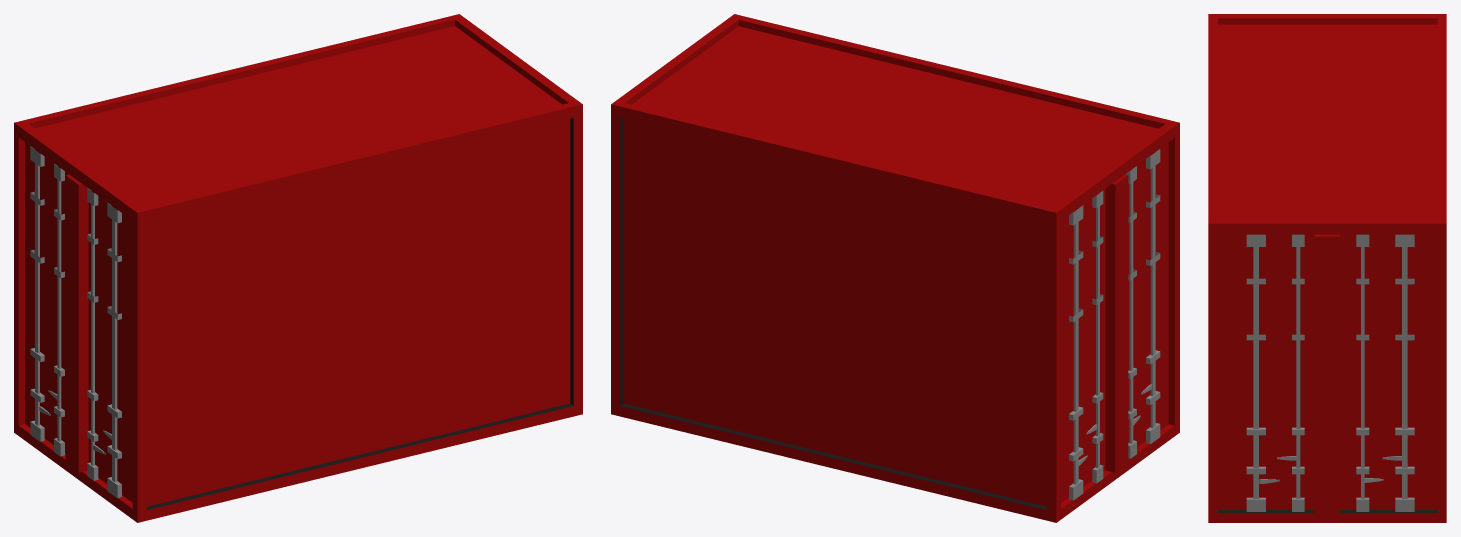
File: FreightContainer.fbx
The picture shows the model from 3 angles, left to right: view 1: azimuth 30°, elevation 25°; view 2: azimuth 150°, elevation 25°; view 3: azimuth 270°, elevation 25°; orthographic projection. The views are drawn at different scales.
Parts seen in each view (by area): view 1: FreightContainer; view 2: FreightContainer; view 3: FreightContainer.
Part boxes in pixels (x1,y1,x2,y2): FreightContainer: (14, 14, 582, 522); FreightContainer: (611, 14, 1179, 522); FreightContainer: (1208, 14, 1446, 522).
Bounding box in the file's own units: 915 × 599 × 432.
